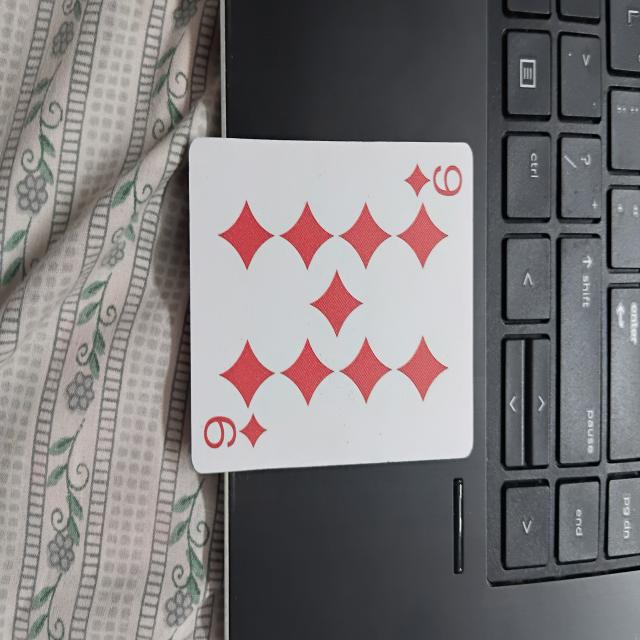9D: (188, 138, 476, 478)
